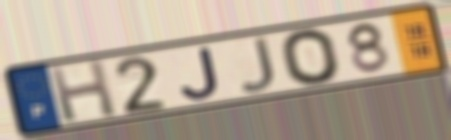2: (113, 53, 171, 117)
8: (345, 22, 393, 76)
H: (46, 57, 121, 125)
J: (235, 34, 279, 95), (178, 44, 223, 102)
O: (277, 27, 345, 88)
